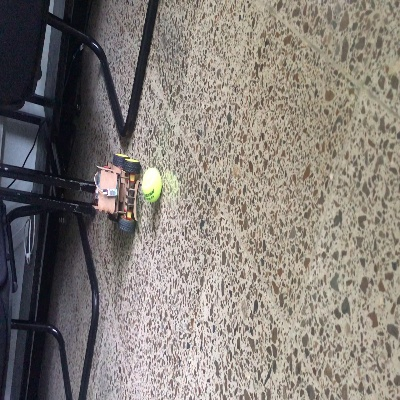Ball: (139, 166, 163, 204)
Robot: (92, 152, 140, 232)
